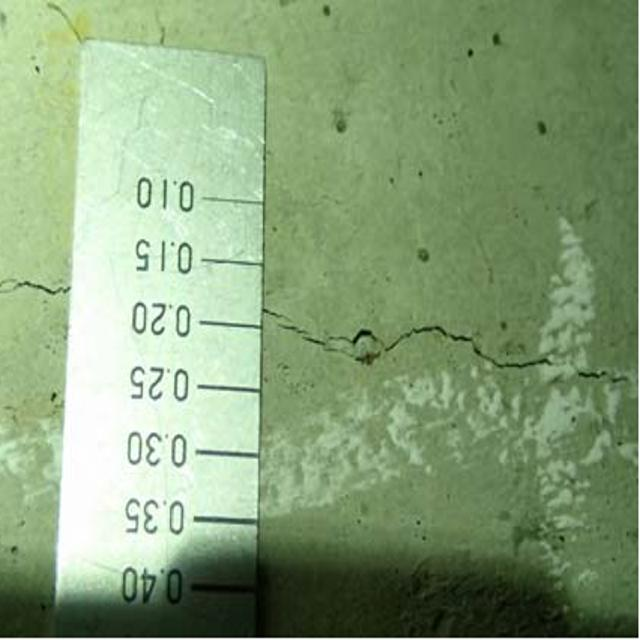crack: (267, 284, 637, 412), (0, 267, 74, 308)
